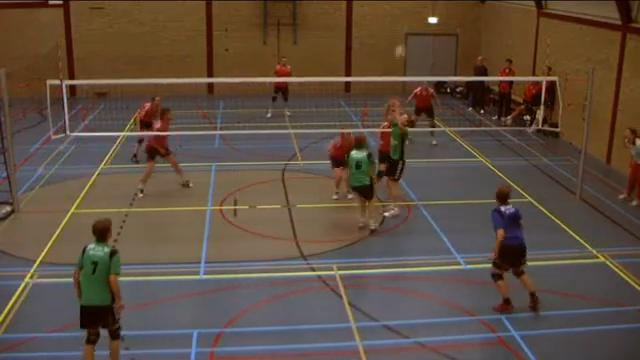Player: (74, 218, 123, 359), (491, 185, 538, 312), (137, 134, 191, 196), (348, 135, 377, 230), (329, 131, 352, 199), (406, 82, 439, 127), (376, 118, 390, 182), (267, 81, 289, 117), (131, 137, 144, 163)
Set: (380, 98, 413, 226)
ball: (394, 43, 406, 61)
